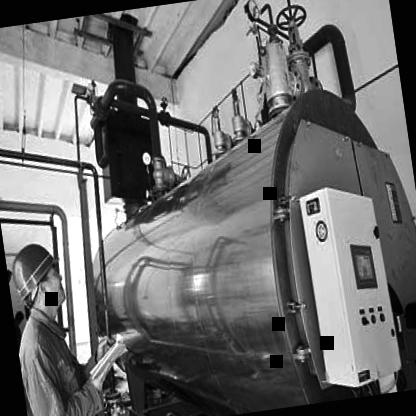helmet: (2, 227, 71, 328)
